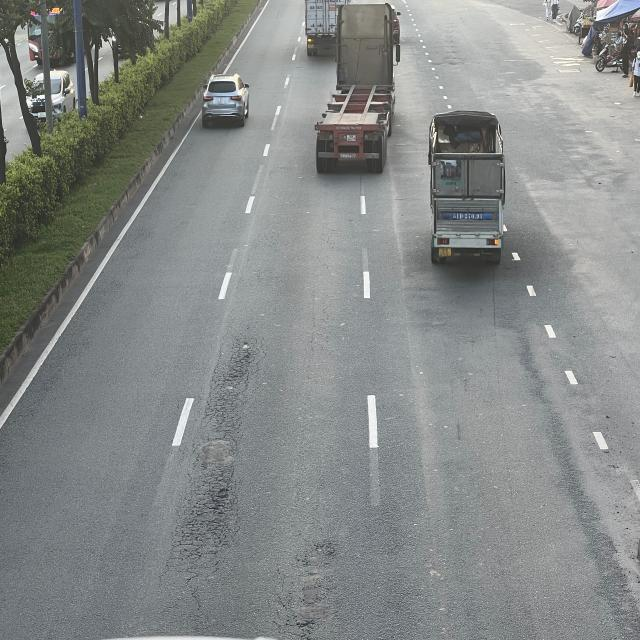car: (200, 74, 249, 125)
container: (314, 3, 400, 173)
truck: (430, 110, 510, 262)
